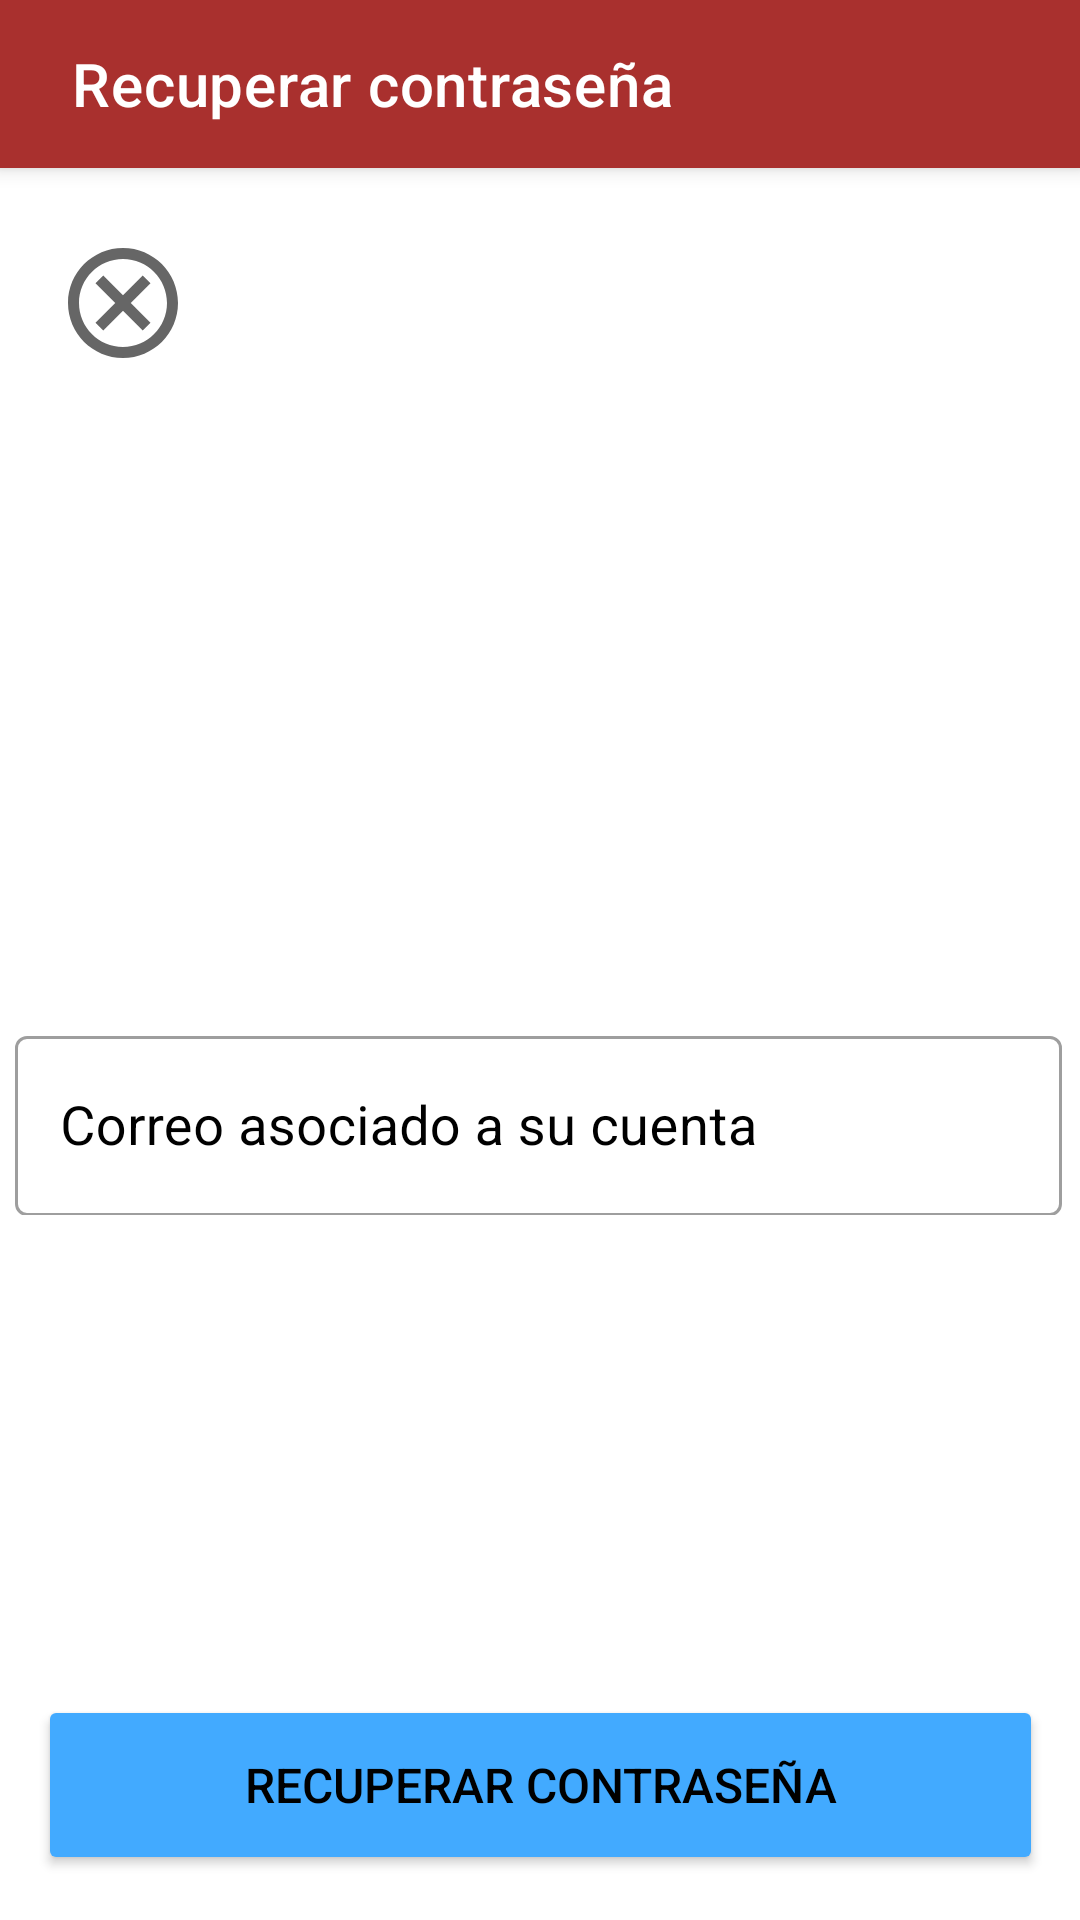

Icon click points for this 1080w x 1920h phone screenshot, format (x,y):
Cancelar: (123,303)
